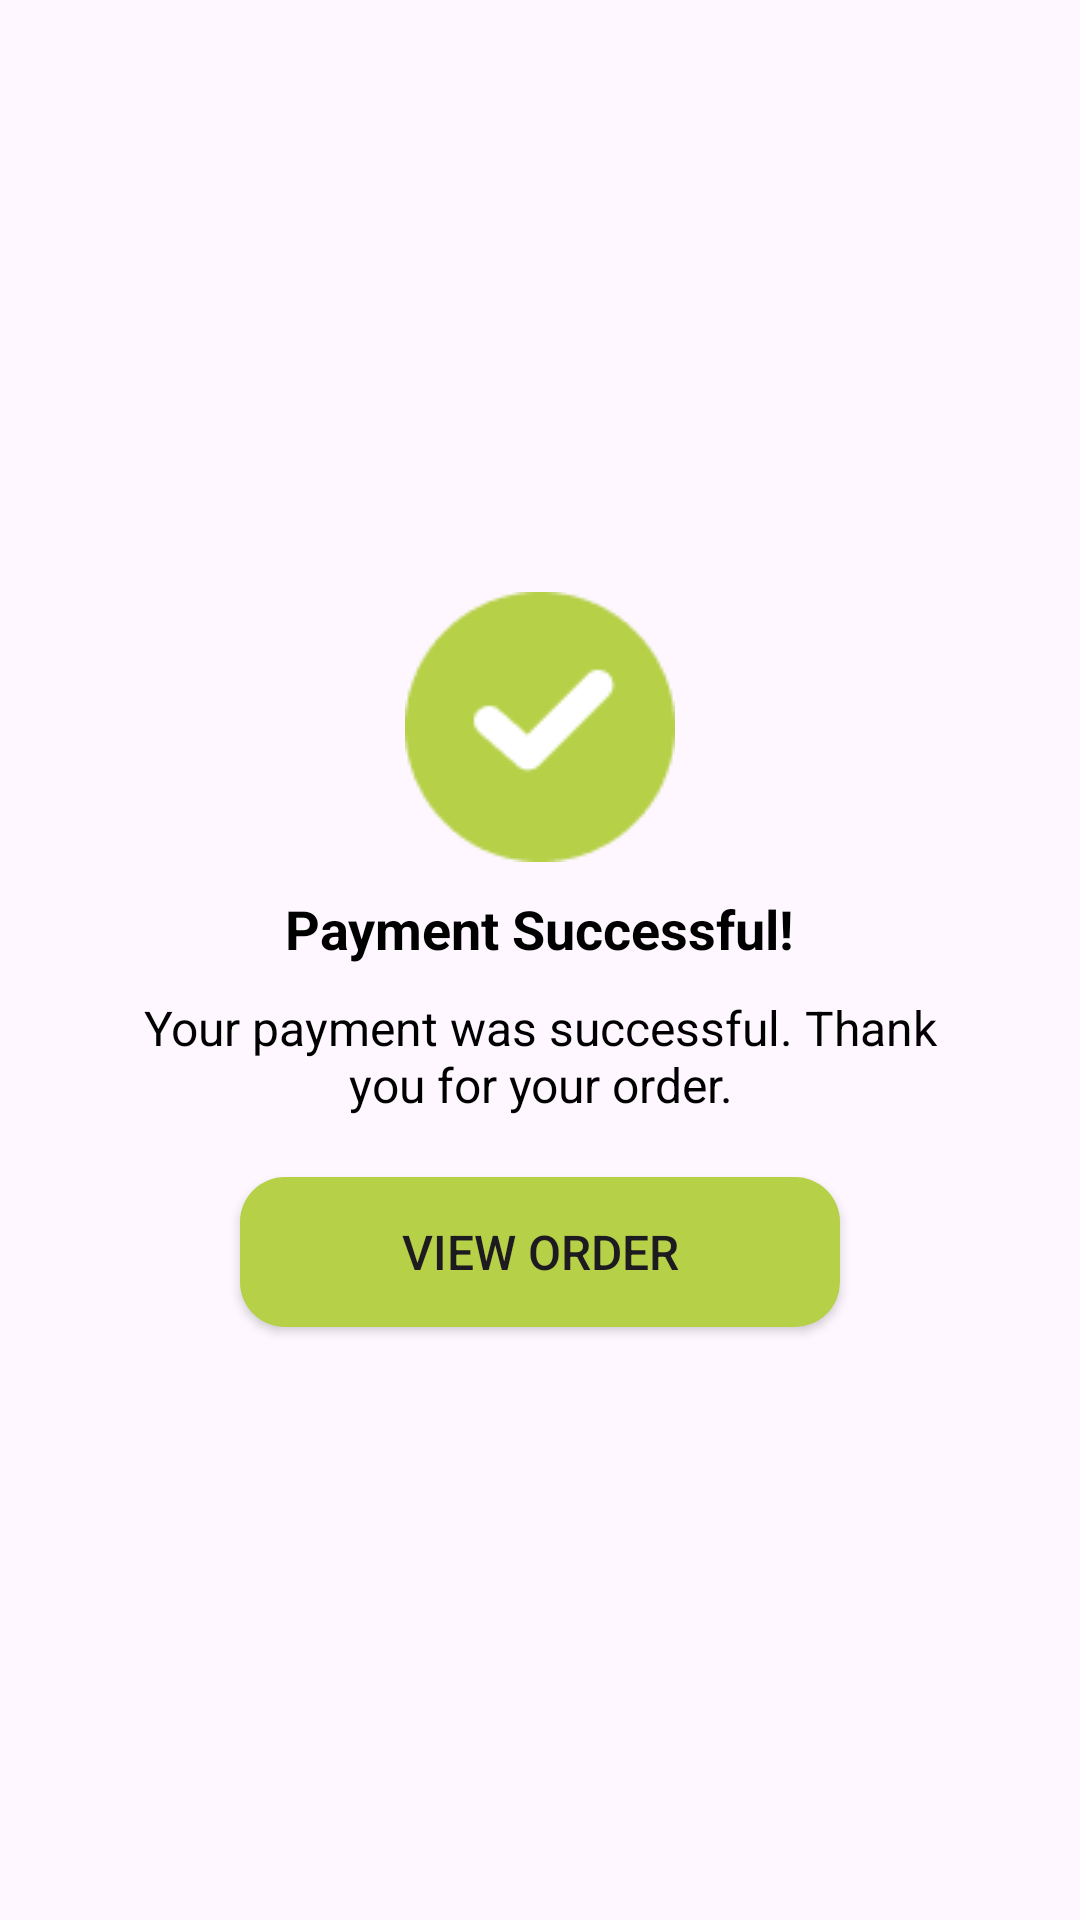

Icon click points for this 1080px×1920px phone screenshot, format [x,y]:
check circle: [540,727]
